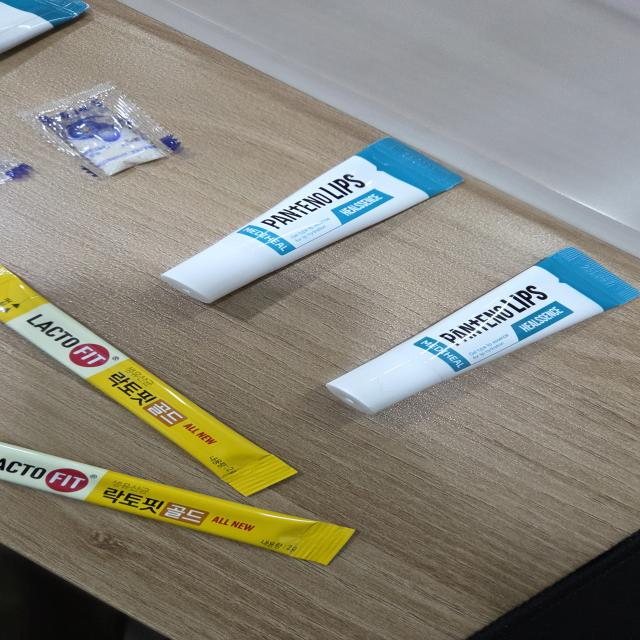lacto: (0, 255, 311, 502), (0, 437, 367, 572)
lip: (151, 130, 477, 327), (301, 241, 640, 427), (0, 0, 98, 69)
salt: (10, 79, 201, 187), (0, 132, 45, 193)
